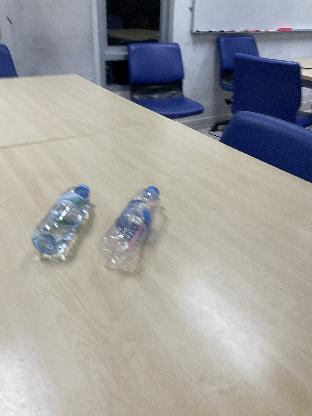Plastic Bottle: (100, 184, 162, 270), (32, 184, 92, 254)
